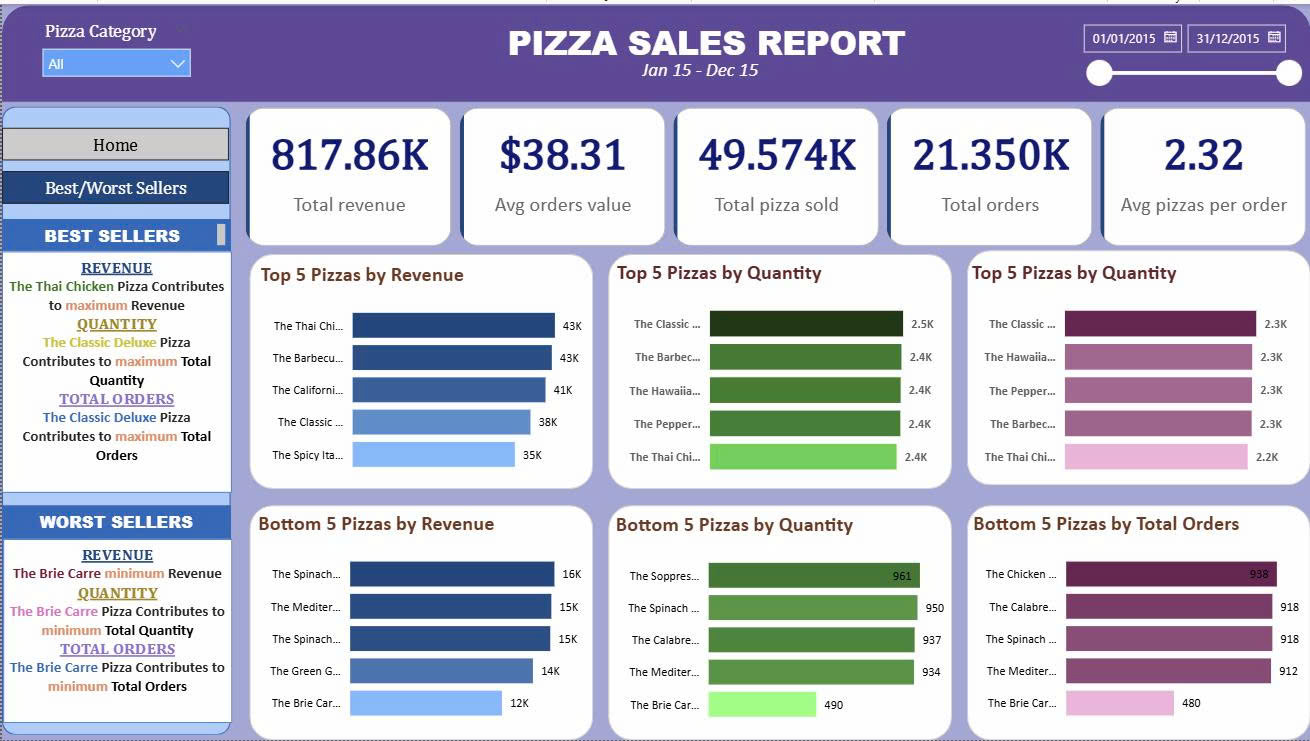

This screenshot's page, from the dashboard's own definition file:
{"tool":"powerbi","page":{"name":"Best/Worst Sellers","canvas":[1280,720],"ordinal":1},"visuals":[{"type":"textbox","box":[478.8,10,419.9,54.9],"z":0,"group":"g1"},{"type":"cardVisual","fields":{"Data":["All measures.Total revenue","All measures.Avg orders value","All measures.Total orders","All measures.Total orders1","All measures.Avg pizza per order"]},"box":[233.3,96.1,1047,145.5],"z":0},{"type":"shape","box":[0,1.4,1280.3,94.7],"z":1000},{"type":"textbox","box":[620.1,48.4,137.2,34.3],"z":1000,"group":"g1"},{"type":"group","id":"g1","title":"Group 1","box":[478.8,10,420,72.5],"z":2000},{"type":"shape","box":[0,100.2,223.7,614.8],"z":3000},{"type":"slicer","fields":{"Values":["pizza_sales.pizza_category"]},"box":[28.8,11.2,165,70],"z":4000},{"type":"slicer","fields":{"Values":["pizza_sales.order_date"]},"box":[1045,10,235,86.2],"z":5000},{"type":"textbox","box":[1.4,522.8,223.7,179.8],"z":6000},{"type":"textbox","box":[0,209.9,223.7,31.6],"z":7000},{"type":"textbox","box":[0,489.9,223.7,32.9],"z":8000},{"type":"shape","box":[242.1,244.6,336.3,229.9],"z":9000},{"type":"shape","box":[593.1,244.6,336.3,229.9],"z":10000},{"type":"shape","box":[943.7,240.9,336.3,229.9],"z":11000},{"type":"shape","box":[242.1,490.1,336.3,229.9],"z":12000},{"type":"shape","box":[593.1,490.1,336.3,229.9],"z":13000},{"type":"shape","box":[943.7,490.1,336.3,229.9],"z":14000},{"type":"clusteredBarChart","title":"Top 5 Pizzas by Revenue","fields":{"Y":["All measures.Total revenue"],"Category":["pizza_sales.pizza_name"]},"box":[248.4,252.5,329.3,219.6],"z":15000},{"type":"clusteredBarChart","title":"Bottom 5 Pizzas by Revenue","fields":{"Y":["All measures.Total revenue"],"Category":["pizza_sales.pizza_name"]},"box":[245.6,495.4,329.3,219.6],"z":16000},{"type":"clusteredBarChart","title":"Bottom 5 Pizzas by Quantity","fields":{"Category":["pizza_sales.pizza_name"],"Y":["All measures.Total pizza sold"]},"box":[595.5,496.7,332.1,219.6],"z":17000},{"type":"clusteredBarChart","title":"Bottom 5 Pizzas by Total Orders","fields":{"Category":["pizza_sales.pizza_name"],"Y":["All measures.Total orders"]},"box":[945.5,495.4,332.1,219.6],"z":18000},{"type":"textbox","box":[0,241.5,225,236],"z":19000},{"type":"clusteredBarChart","title":"Top 5 Pizzas by Quantity","fields":{"Category":["pizza_sales.pizza_name"],"Y":["All measures.Total pizza sold"]},"box":[596.9,249.7,332.1,225],"z":20000},{"type":"clusteredBarChart","title":"Top 5 Pizzas by Quantity","fields":{"Category":["pizza_sales.pizza_name"],"Y":["All measures.Total orders"]},"box":[944.1,249.7,332.1,225],"z":21000},{"type":"pageNavigator","box":[0,120.8,222.3,75.5],"z":22000}]}

Visuals, with their boxes in screenshot pixels (x1, y1, x2, y2), scaled from the page's 1280x720 canvas onto the 1310x741 screenshot:
textbox: (490,10,920,67)
cardVisual - All measures.Total revenue x All measures.Avg orders value: (239,99,1309,249)
shape: (0,1,1309,99)
textbox: (635,50,775,85)
"Group 1" group: (490,10,920,85)
shape: (0,103,229,736)
slicer - pizza_sales.pizza_category: (29,12,198,84)
slicer - pizza_sales.order_date: (1069,10,1309,99)
textbox: (1,538,230,723)
textbox: (0,216,229,249)
textbox: (0,504,229,538)
shape: (248,252,592,488)
shape: (607,252,951,488)
shape: (966,248,1309,485)
shape: (248,504,592,740)
shape: (607,504,951,740)
shape: (966,504,1309,740)
"Top 5 Pizzas by Revenue" clusteredBarChart: (254,260,591,486)
"Bottom 5 Pizzas by Revenue" clusteredBarChart: (251,510,588,736)
"Bottom 5 Pizzas by Quantity" clusteredBarChart: (609,511,949,737)
"Bottom 5 Pizzas by Total Orders" clusteredBarChart: (968,510,1308,736)
textbox: (0,249,230,491)
"Top 5 Pizzas by Quantity" clusteredBarChart: (611,257,951,489)
"Top 5 Pizzas by Quantity" clusteredBarChart: (966,257,1306,489)
pageNavigator: (0,124,228,202)
